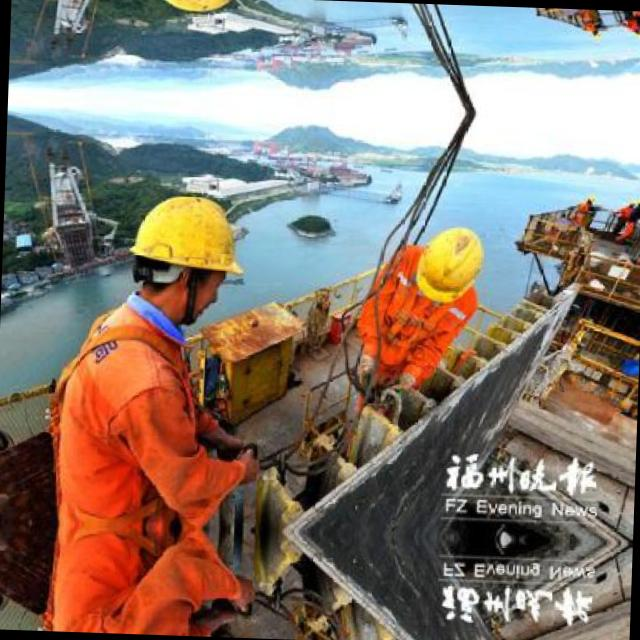helmet: (128, 190, 242, 324), (417, 224, 482, 302)
